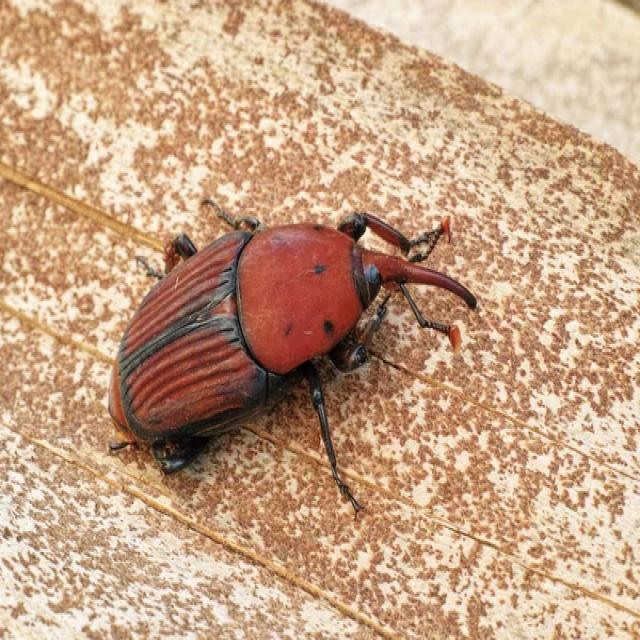Red-palm-weevil: (108, 211, 479, 435)
